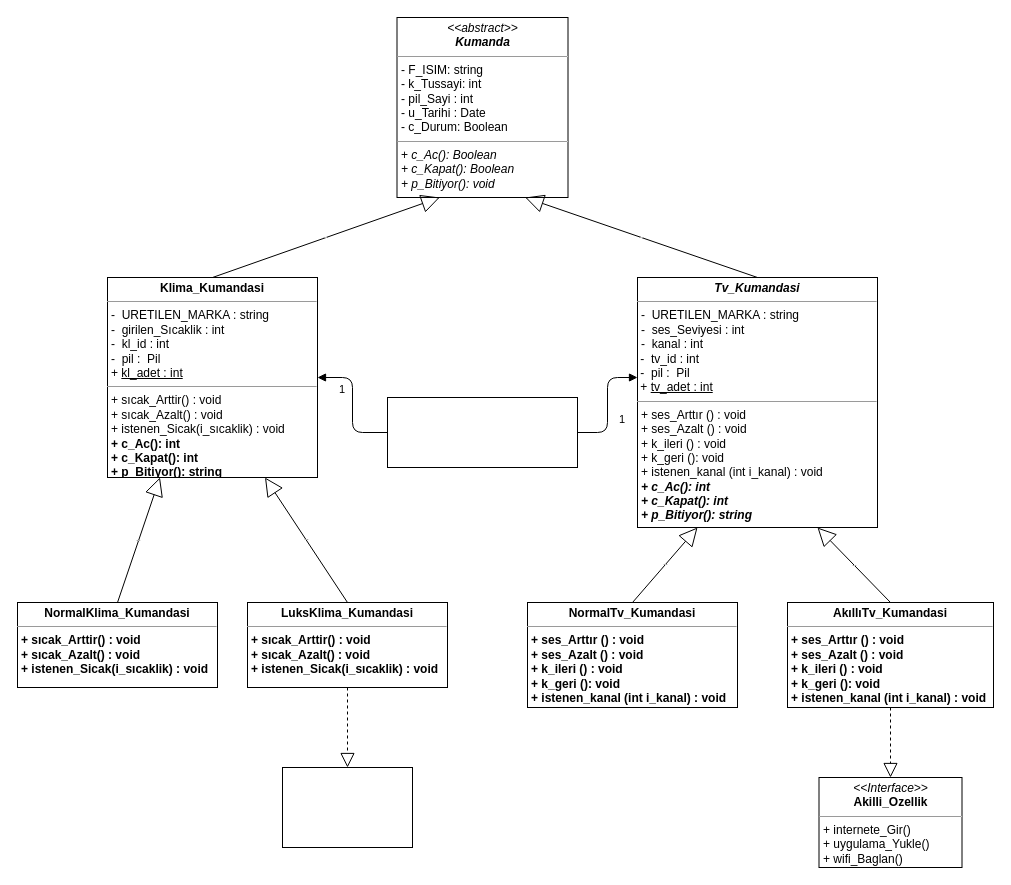
Image size: 1011x885. Some labels were removed from this diagram. The box of each missing label's shape, as (x1, y1, x2, y2) in pixels:
<<Interface>> Luks_Ozellik + turbo_sogutma() + ısıtma(): (282, 766, 412, 848)
Pil - pil_Tur : string - pil_Voltaj : int: (386, 396, 578, 468)
